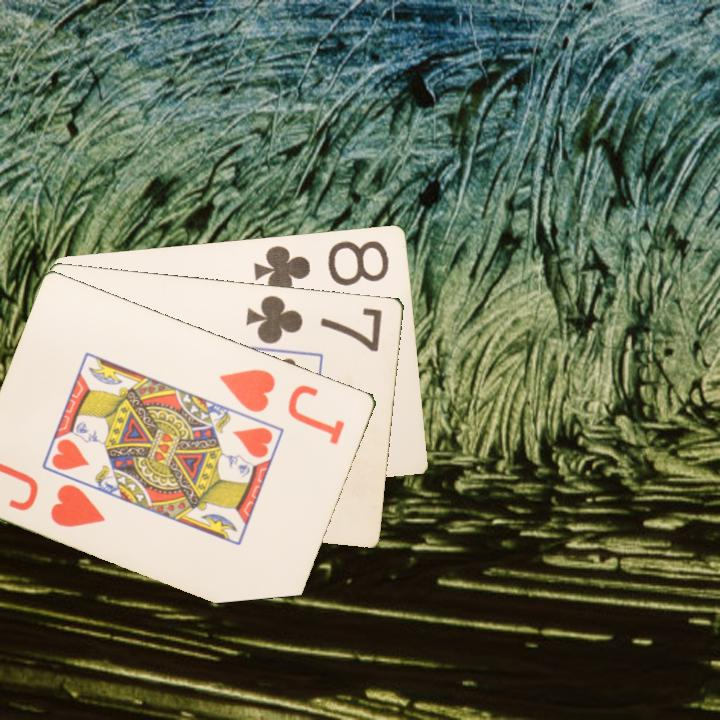7c: (242, 291, 385, 355)
8c: (250, 236, 392, 297)
Jh: (216, 364, 349, 447), (47, 480, 109, 530)
